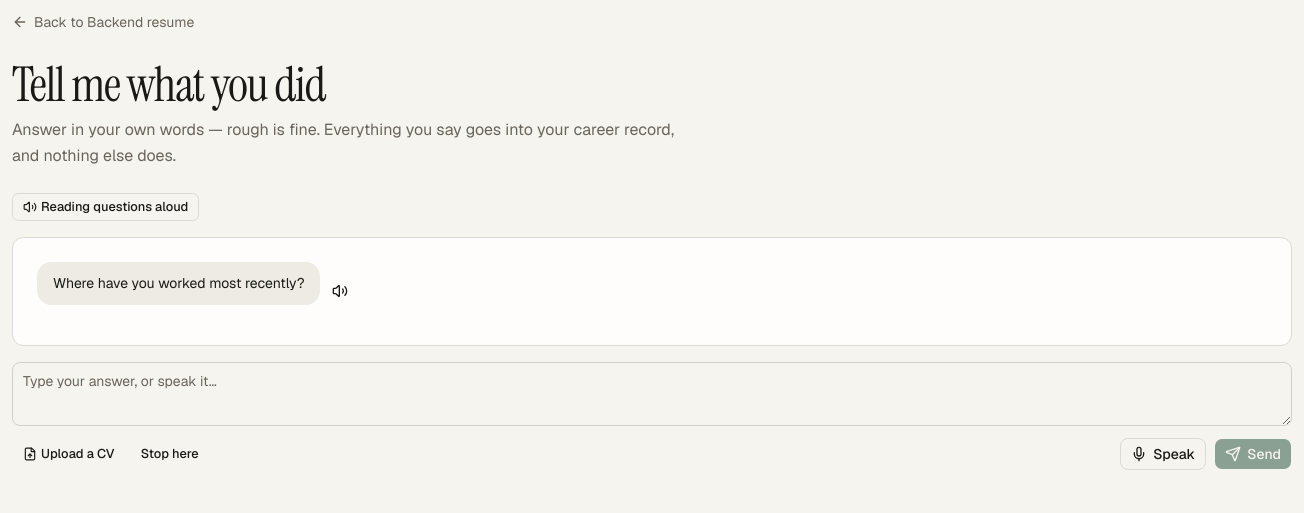
answering by voice › puts what was heard into the box rather than sending it
Click the button with aria-label "Answer by speaking".
click(1163, 454)  # box x1=1120 y1=438 x2=1206 y2=470
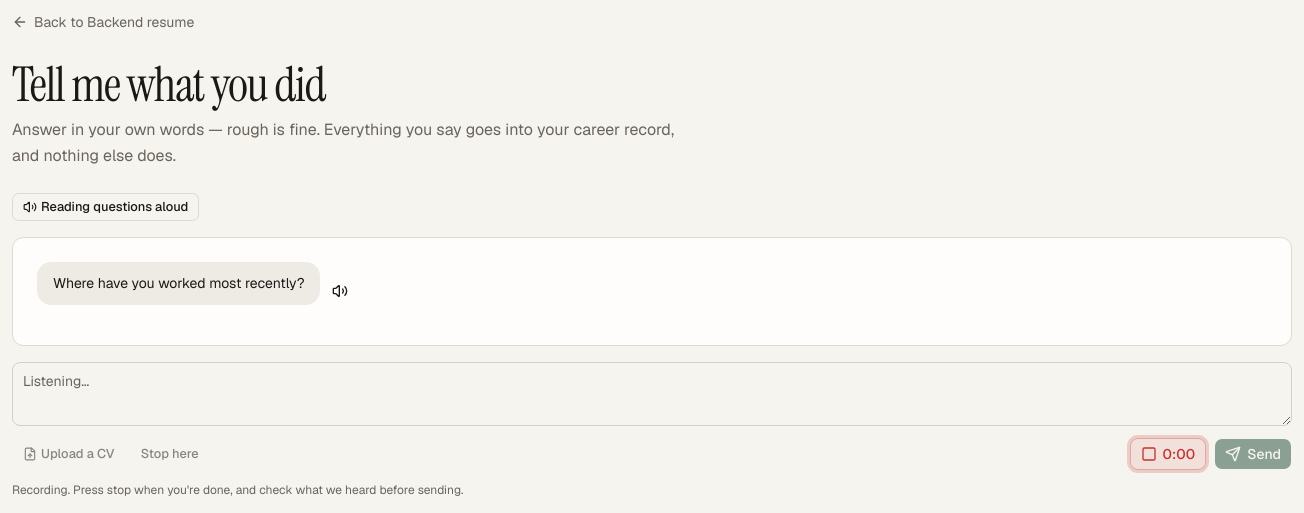
Click the button named "Stop recording".
click(1168, 454)  # box x1=1130 y1=438 x2=1206 y2=470
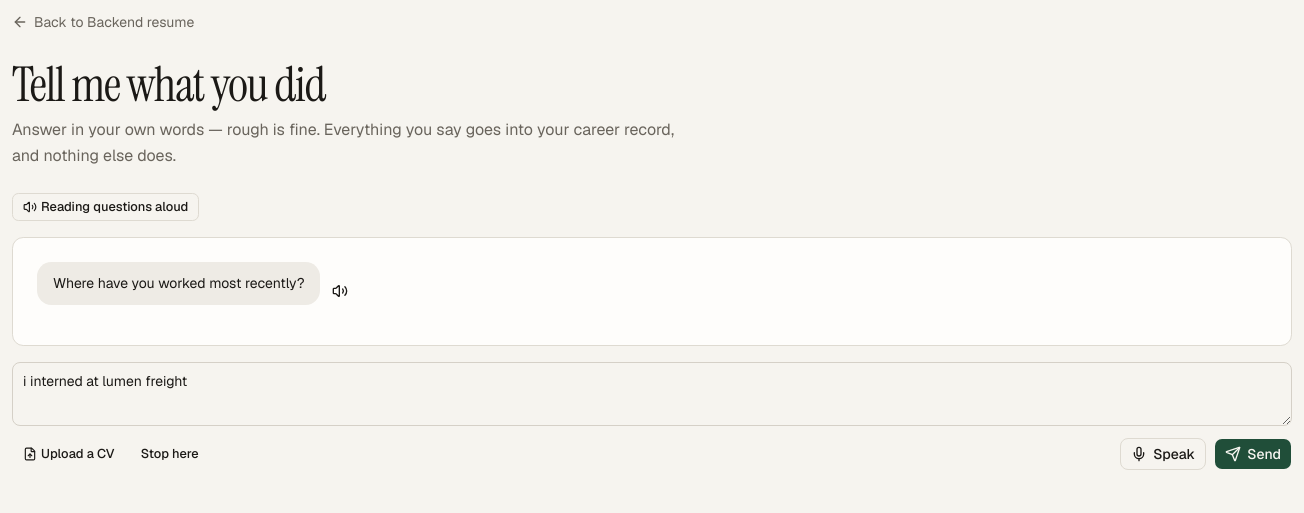
Expected: the text box named "your answer" holds "i interned at lumen freight", x1=12 y1=362 x2=1292 y2=426
